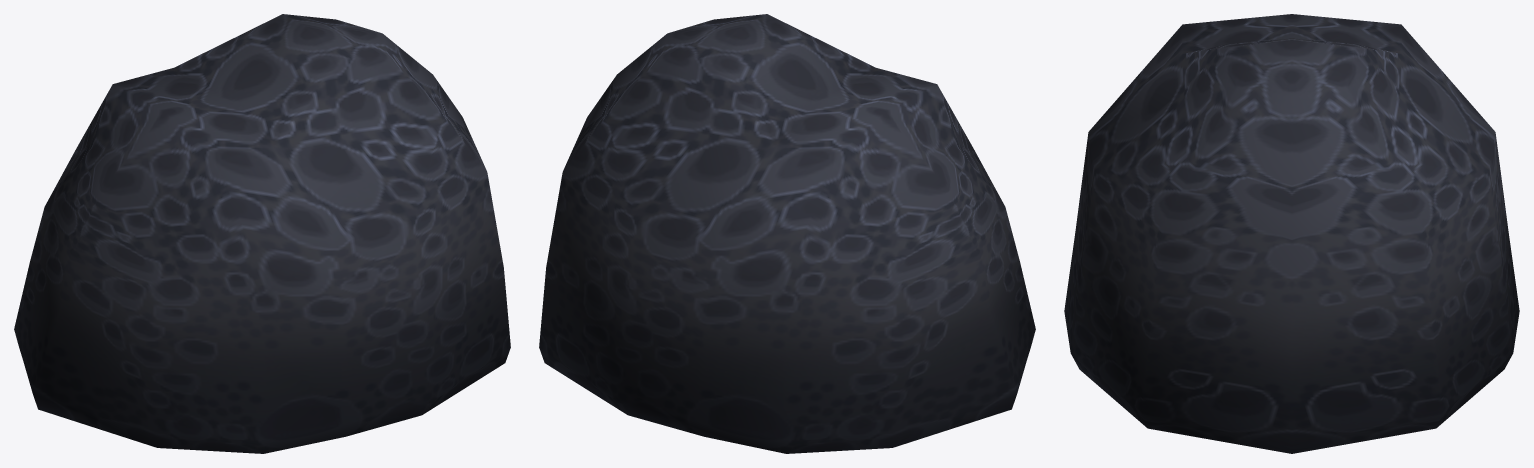
Rendered from Rock_02b.FBX.
3 renders of one model, left to right at view 1: azimuth 30°, elevation 25°; view 2: azimuth 150°, elevation 25°; view 3: azimuth 270°, elevation 25°, orthographic. The views are drawn at different scales.
Parts seen in each view (by area): view 1: Rock_02b; view 2: Rock_02b; view 3: Rock_02b.
Part boxes in pixels (x1,y1,x2,y2): Rock_02b: [14, 14, 510, 453]; Rock_02b: [539, 14, 1035, 453]; Rock_02b: [1064, 14, 1519, 453].
Bounding box in the file's own units: 34.47 × 22.44 × 28.51.
